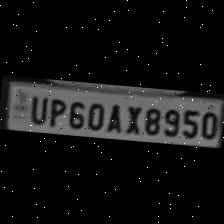0: (83, 98, 106, 132), (197, 108, 220, 141)
5: (178, 106, 201, 140)
6: (63, 97, 86, 131)
8: (139, 104, 162, 138)
9: (160, 105, 182, 139)
A: (104, 100, 126, 134)
P: (46, 95, 68, 129)
U: (24, 93, 48, 126)
X: (120, 101, 143, 135)
